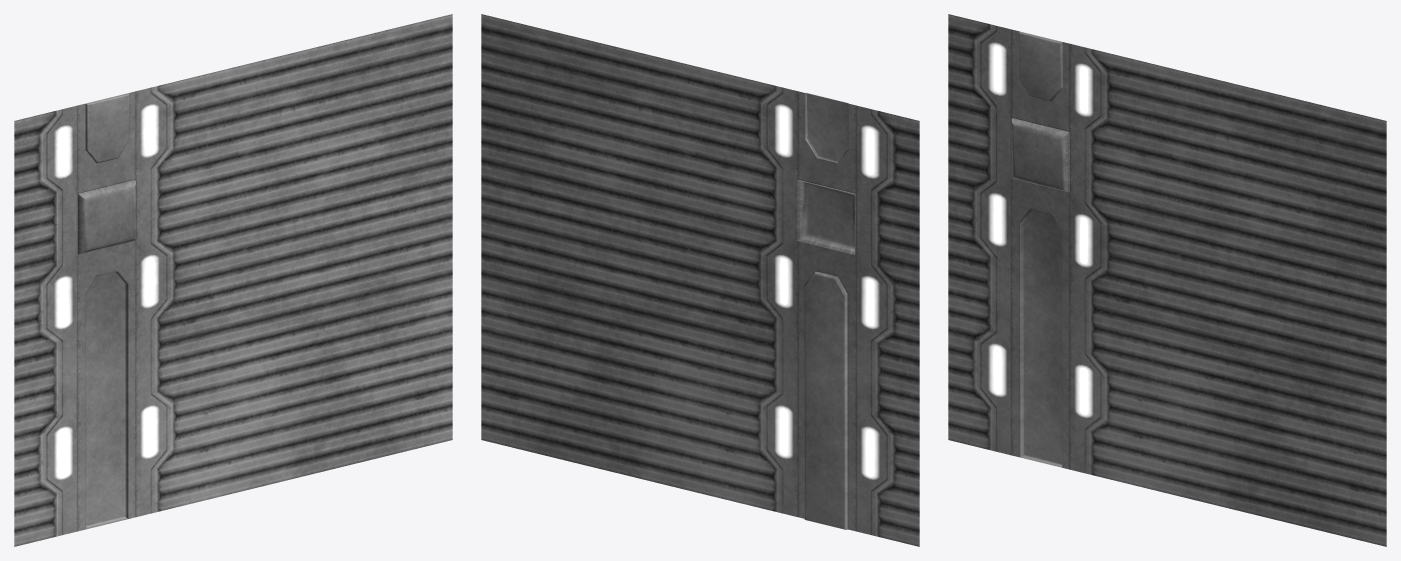
File: PanelBasic.fbx
The picture shows the model from 3 angles, left to right: view 1: azimuth 30°, elevation 25°; view 2: azimuth 150°, elevation 25°; view 3: azimuth 330°, elevation 25°; orthographic projection.
Parts seen in each view (by area): view 1: Panel_Basic; view 2: Panel_Basic; view 3: Panel_Basic.
Part boxes in pixels (x1,y1,x2,y2): Panel_Basic: (14, 14, 452, 546); Panel_Basic: (481, 14, 919, 546); Panel_Basic: (948, 14, 1386, 546).
Bounding box in the file's own units: 223 × 207 × 4.66.
